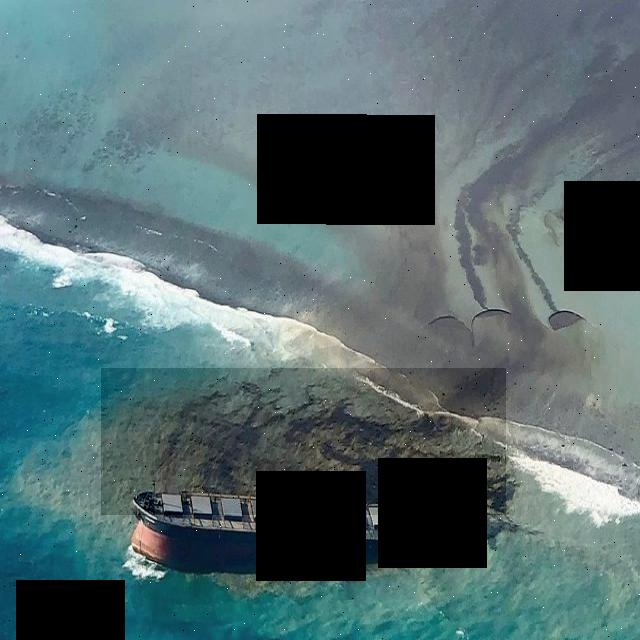oil spill: (102, 368, 506, 515)
